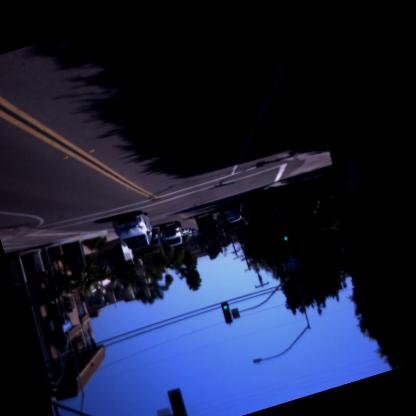trafficlight: (219, 300, 236, 325), (280, 228, 292, 250)
